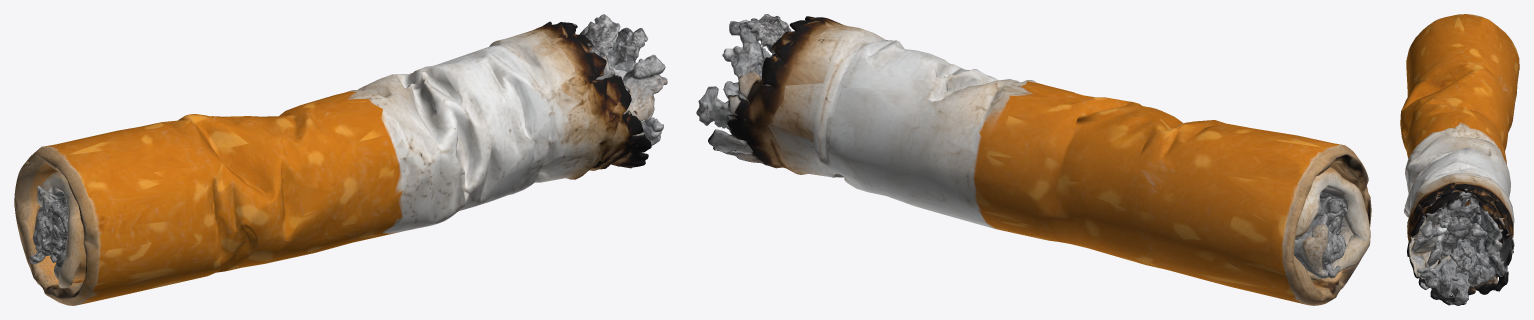
The model's file is cigarette-butt.glb.
3 views of the same model, side by side, from view 1: azimuth 30°, elevation 25°; view 2: azimuth 150°, elevation 25°; view 3: azimuth 270°, elevation 25° (orthographic). The views are drawn at different scales.
Visible parts, largest first — view 1: Mesh_0; view 2: Mesh_0; view 3: Mesh_0.
Part boxes in pixels (box(x1,y1,x2,y2)): Mesh_0: box(14, 14, 667, 305); Mesh_0: box(696, 14, 1371, 305); Mesh_0: box(1400, 14, 1519, 305).
Size of the model in its own units: 1.9 by 0.4532 by 0.465.
1 material, 1 textured.
